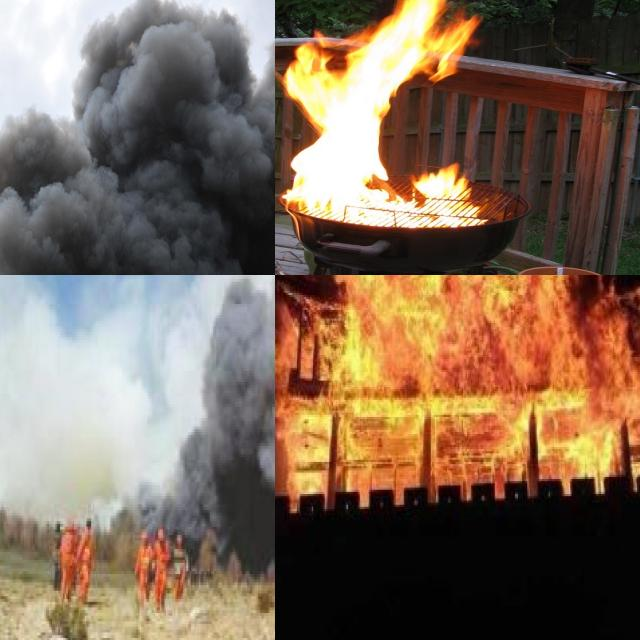fire: (275, 275, 640, 485), (275, 0, 531, 234)
smoke: (0, 0, 275, 275), (134, 275, 275, 535), (0, 275, 130, 526)
